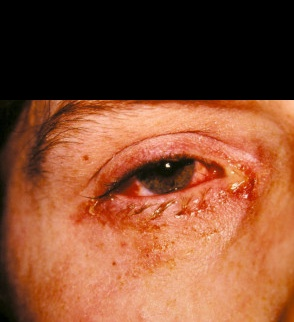SJS-TEN: (37, 114, 294, 308)
